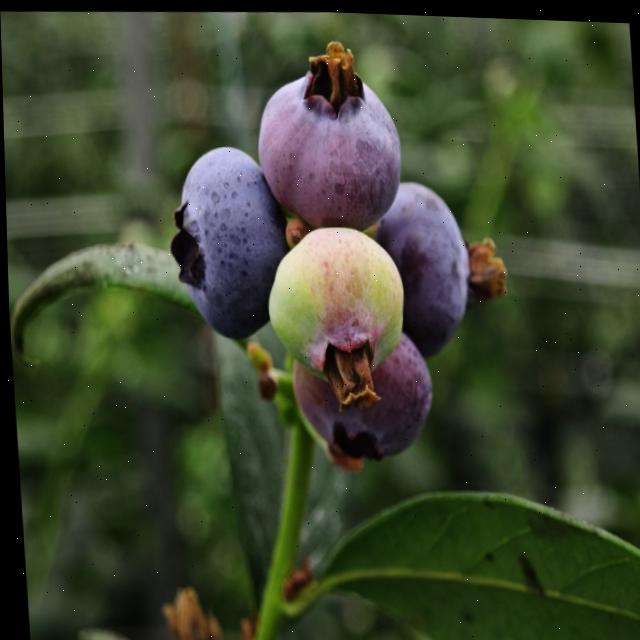Semi-RipeBlueBerry: (252, 46, 403, 231), (261, 212, 406, 381), (172, 141, 285, 337)
